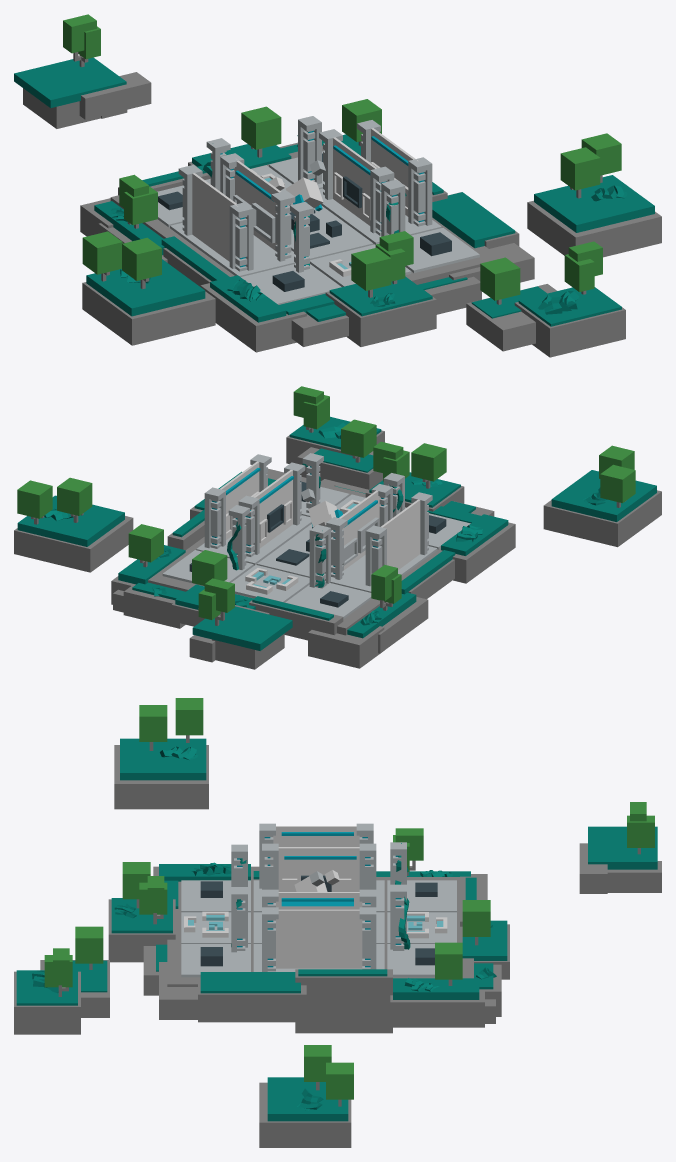
The picture shows the model from 3 angles, top to bottom: view 1: azimuth 30°, elevation 25°; view 2: azimuth 150°, elevation 25°; view 3: azimuth 270°, elevation 25°; orthographic projection. The views are drawn at different scales.
Visible parts, largest first — view 1: node_MeshObject717320192-PolyPaper21, node_MeshObject-998917120-PolyPaper17, node_MeshObject1289399296-PolyPaper22, node_MeshObject145241088-PolyPaper15; view 2: node_MeshObject717320192-PolyPaper21, node_MeshObject-998917120-PolyPaper17, node_MeshObject1289399296-PolyPaper22, node_MeshObject145241088-PolyPaper15; view 3: node_MeshObject717320192-PolyPaper21, node_MeshObject-998917120-PolyPaper17, node_MeshObject1289399296-PolyPaper22, node_MeshObject145241088-PolyPaper15.
Part boxes in pixels (x1,y1,x2,y2): node_MeshObject717320192-PolyPaper21: (14,14,625,357); node_MeshObject-998917120-PolyPaper17: (110,120,501,304); node_MeshObject1289399296-PolyPaper22: (82,133,661,345); node_MeshObject145241088-PolyPaper15: (158,116,451,291); node_MeshObject717320192-PolyPaper21: (57,386,515,669); node_MeshObject-998917120-PolyPaper17: (148,454,470,635); node_MeshObject1289399296-PolyPaper22: (14,445,661,572); node_MeshObject145241088-PolyPaper15: (189,453,446,607); node_MeshObject717320192-PolyPaper21: (14,802,661,1090); node_MeshObject-998917120-PolyPaper17: (167,823,473,986); node_MeshObject1289399296-PolyPaper22: (114,698,353,1147); node_MeshObject145241088-PolyPaper15: (184,842,445,966).
Bounding box in the file's own units: 2.4 × 0.6713 × 2.33.
